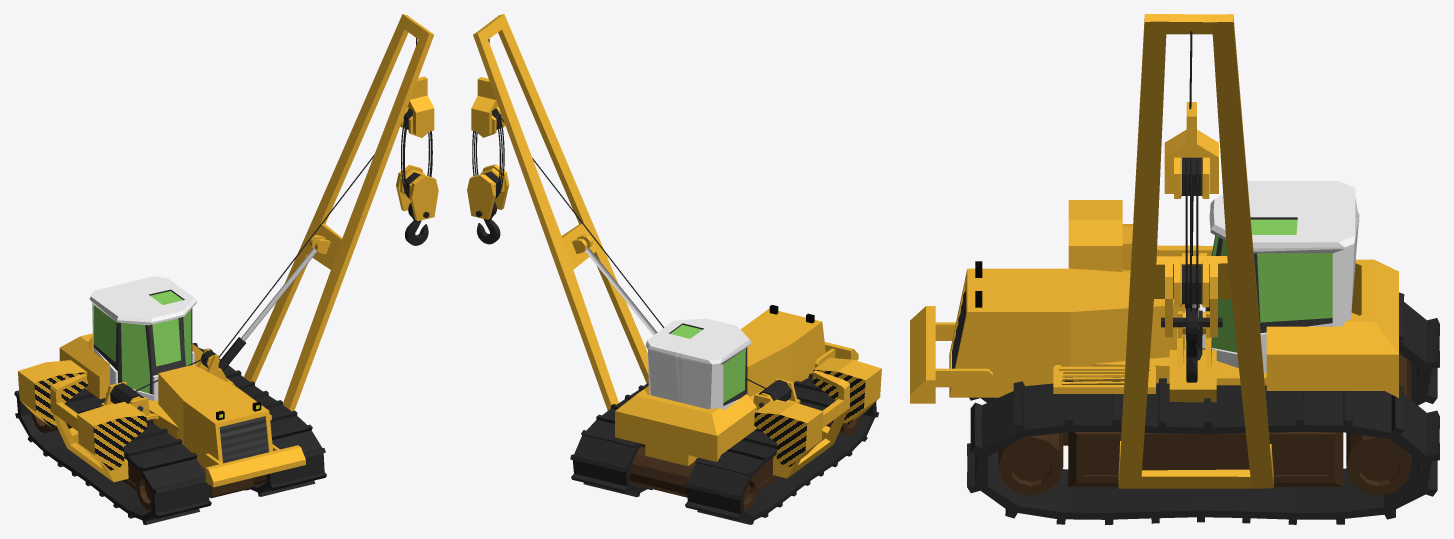
Rendered from new_tractor_color2.glb.
3 views of the same model, side by side, from view 1: azimuth 30°, elevation 25°; view 2: azimuth 150°, elevation 25°; view 3: azimuth 270°, elevation 25° (orthographic). The views are drawn at different scales.
Visible parts, largest first — view 1: Плоскость, Плоскость.001, Плоскость.003, Плоскость.002, КриваяБезье; view 2: Плоскость, Плоскость.003, Плоскость.001, Плоскость.002, КриваяБезье; view 3: Плоскость, Плоскость.002, Плоскость.001, Плоскость.003, КриваяБезье.
Boxes of the visible parts, x1,y1,x2,y2 form: Плоскость: (18, 14, 438, 510); Плоскость.001: (89, 276, 196, 400); Плоскость.003: (14, 388, 211, 524); Плоскость.002: (192, 343, 326, 496); КриваяБезье: (135, 38, 432, 391); Плоскость: (467, 14, 881, 510); Плоскость.003: (684, 373, 878, 524); Плоскость.001: (645, 318, 751, 409); Плоскость.002: (570, 382, 652, 497); КриваяБезье: (472, 39, 766, 388); Плоскость: (910, 14, 1411, 495); Плоскость.002: (967, 377, 1439, 524); Плоскость.001: (1199, 181, 1359, 372); Плоскость.003: (969, 292, 1439, 405); КриваяБезье: (1185, 31, 1198, 311).
Bounding box in the file's own units: 13.91 × 13.68 × 10.32.
Materials: 2 (2 with a texture image).
